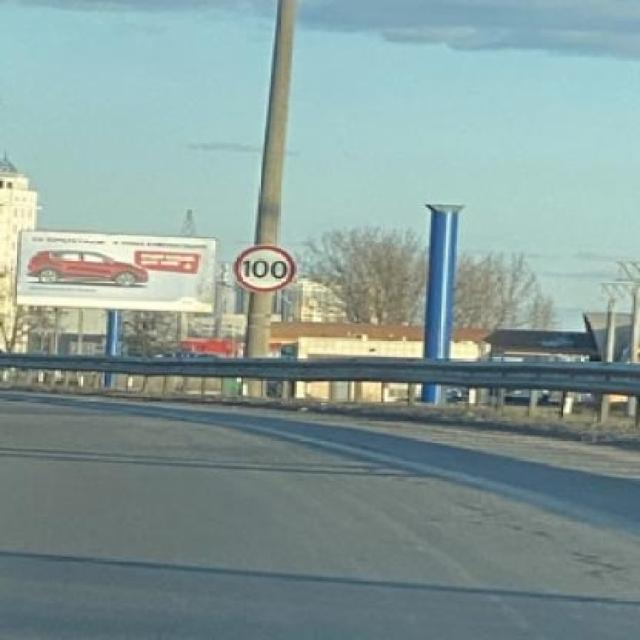forb_speed_over_100: (235, 246, 297, 292)
